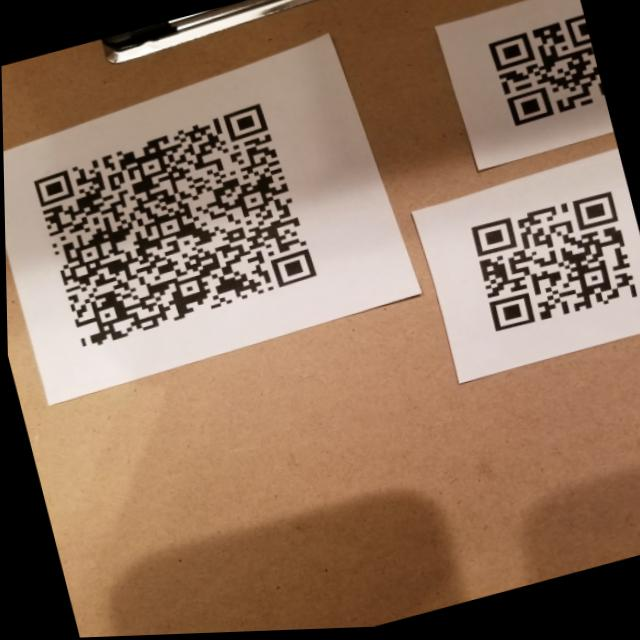QR_CODE: (15, 93, 331, 368), (454, 177, 640, 355), (474, 4, 607, 140)
